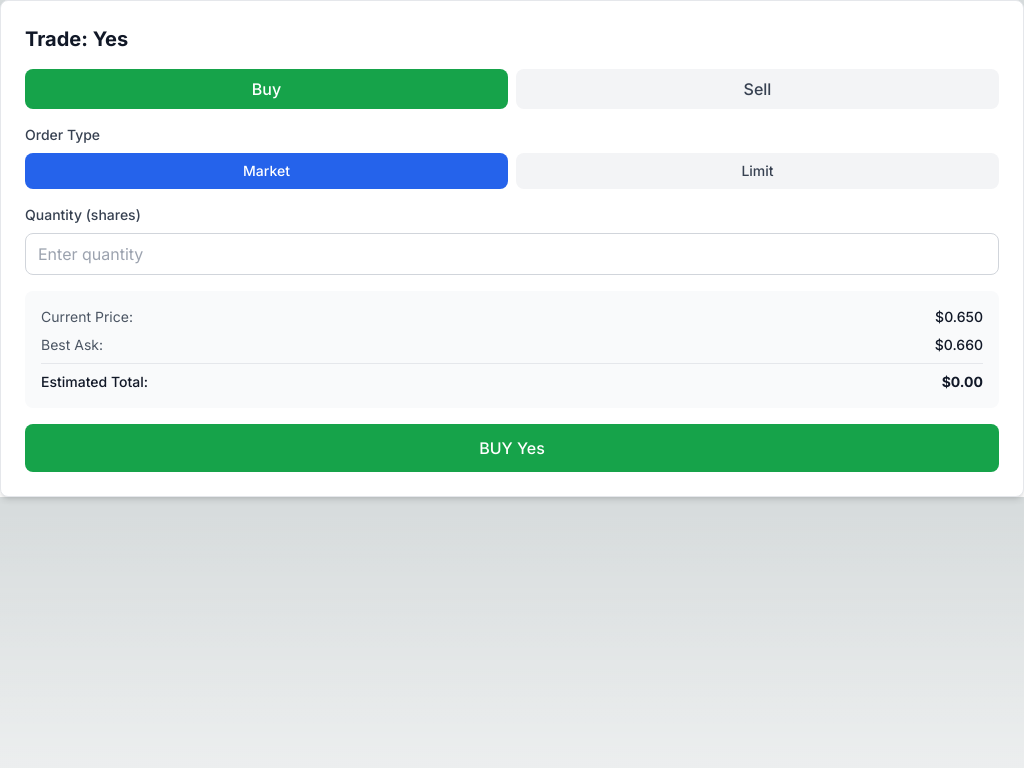
TradingInterface › should calculate total correctly
Step 1. Type "100" into the number field with placeholder "Enter quantity" → (512, 254), box [25, 233, 999, 275]
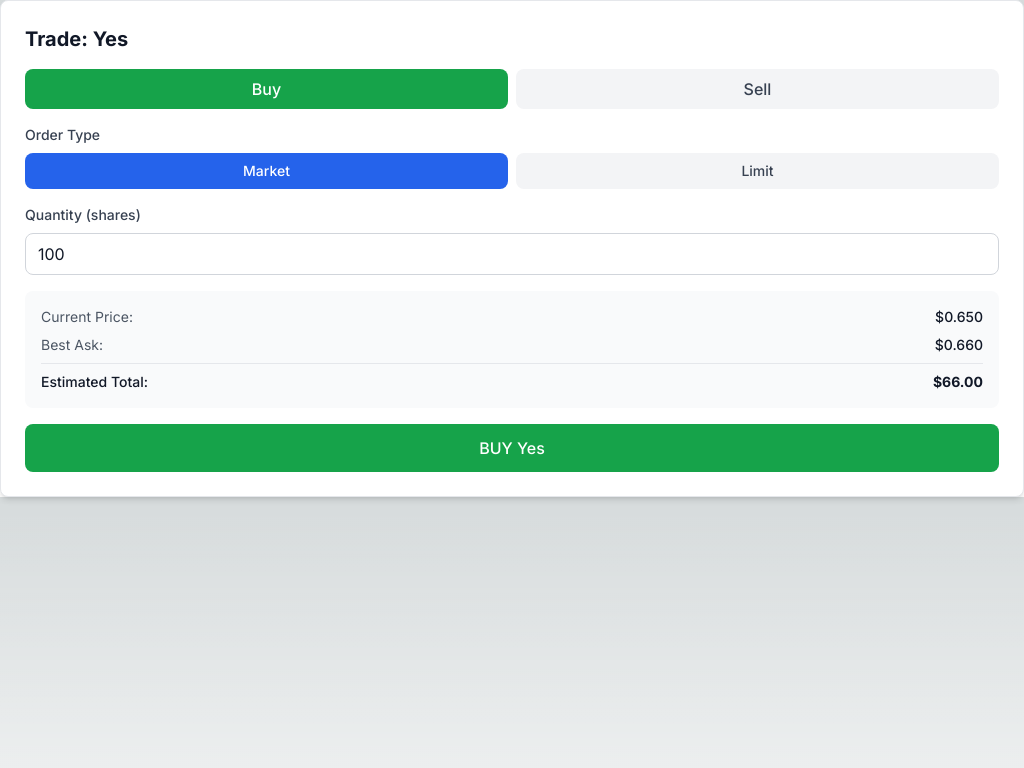
expect the text "$66.00" is shown: met, box [933, 372, 983, 392]
